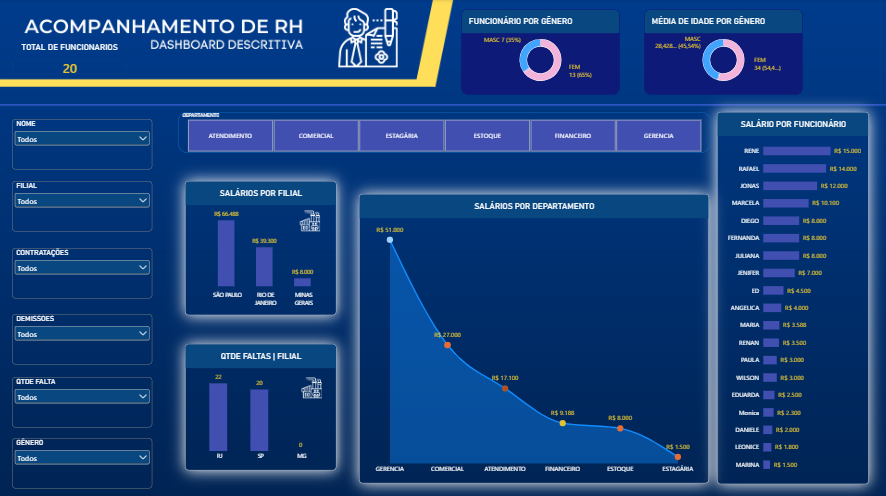

The dashboard page shown, as its layout file describes it:
{"tool":"powerbi","page":{"name":"Controle de RH","canvas":[1920,1080],"ordinal":0},"visuals":[{"type":"barChart","title":"SALÁRIO POR FUNCIONÁRIO","fields":{"Category":["tb_rh.NOME"],"Y":["tb_rh.Total de salarios"]},"box":[1551.7,244.8,328.3,803.5],"z":0},{"type":"columnChart","title":"QTDE FALTAS | FILIAL","fields":{"Category":["tb_rh.FILIAL"],"Y":["tb_rh.TOTAL DE FALTAS"]},"box":[401.9,744.2,326.9,273.1],"z":1000},{"type":"columnChart","title":"SALÁRIOS POR FILIAL","fields":{"Category":["tb_rh.ESTADOS"],"Y":["tb_rh.Total de salarios"]},"box":[402.4,394,326.9,290.4],"z":2000},{"type":"image","box":[641,455.4,60.2,45.8],"z":3000},{"type":"image","box":[650.6,815.7,50.6,45.8],"z":4000},{"type":"areaChart","title":"SALÁRIOS POR DEPARTAMENTO ","fields":{"Category":["tb_rh.DEPARTAMENTO"],"Y":["tb_rh.Total de salarios"]},"box":[777.8,422.2,755.6,625],"z":5000},{"type":"slicer","fields":{"Values":["tb_rh.DEPARTAMENTO"]},"box":[386.1,244.4,1150,88.5],"z":6000},{"type":"donutChart","title":"FUNCIONÁRIO POR GÊNERO","fields":{"Category":["tb_rh.SEXO"],"Y":["tb_rh.GENERO"]},"box":[998.3,21.7,343.3,185],"z":7000},{"type":"donutChart","title":"MÉDIA DE IDADE POR GÊNERO ","fields":{"Category":["tb_rh.SEXO"],"Y":["tb_rh.IDADE POR GENERO"]},"box":[1393.3,21.7,343.3,185],"z":8000},{"type":"slicer","fields":{"Values":["tb_rh.NOME"]},"box":[28.9,260,303.3,108.9],"z":8001},{"type":"slicer","fields":{"Values":["tb_rh.FILIAL"]},"box":[28.9,392.2,303.3,108.9],"z":8002},{"type":"slicer","fields":{"Values":["tb_rh.CONTRATAÇÕES FEITAS"]},"box":[28.9,537.8,303.3,108.9],"z":8003},{"type":"slicer","fields":{"Values":["tb_rh.QTDE FALTA"]},"box":[28.9,815.6,303.3,108.9],"z":8004},{"type":"slicer","fields":{"Values":["tb_rh.DEMISSOES"]},"box":[28.9,680,303.3,108.9],"z":8005},{"type":"slicer","fields":{"Values":["tb_rh.SEXO"]},"box":[28.9,947.8,303.3,108.9],"z":8006},{"type":"cardVisual","title":"TOTAL DE FUNCIONARIOS","fields":{"Data":["Count(tb_rh.ID)"]},"box":[28.1,92.9,248.9,70.2],"z":8007}]}

Visuals, with their boxes in screenshot pixels (x1, y1, x2, y2), scaled from the page's 1920x1080 canvas onto the 886x496 screenshot:
"SALÁRIO POR FUNCIONÁRIO" barChart: <box>716,112,868,481</box>
"QTDE FALTAS | FILIAL" columnChart: <box>185,342,336,467</box>
"SALÁRIOS POR FILIAL" columnChart: <box>186,181,337,314</box>
image: <box>296,209,324,230</box>
image: <box>300,375,324,396</box>
"SALÁRIOS POR DEPARTAMENTO " areaChart: <box>359,194,708,481</box>
slicer - tb_rh.DEPARTAMENTO: <box>178,112,709,153</box>
"FUNCIONÁRIO POR GÊNERO" donutChart: <box>461,10,619,95</box>
"MÉDIA DE IDADE POR GÊNERO " donutChart: <box>643,10,801,95</box>
slicer - tb_rh.NOME: <box>13,119,153,169</box>
slicer - tb_rh.FILIAL: <box>13,180,153,230</box>
slicer - tb_rh.CONTRATAÇÕES FEITAS: <box>13,247,153,297</box>
slicer - tb_rh.QTDE FALTA: <box>13,375,153,425</box>
slicer - tb_rh.DEMISSOES: <box>13,312,153,362</box>
slicer - tb_rh.SEXO: <box>13,435,153,485</box>
"TOTAL DE FUNCIONARIOS" cardVisual: <box>13,43,128,75</box>
